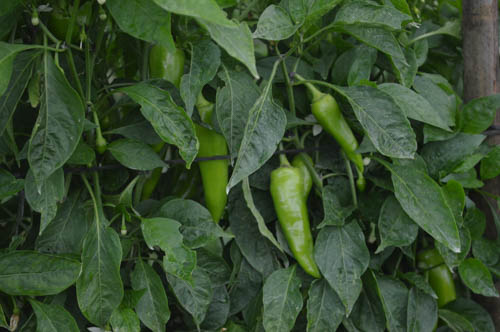ChiliPepper: (265, 162, 325, 280), (188, 103, 232, 227), (307, 89, 366, 173), (415, 245, 462, 307), (146, 36, 188, 94)
